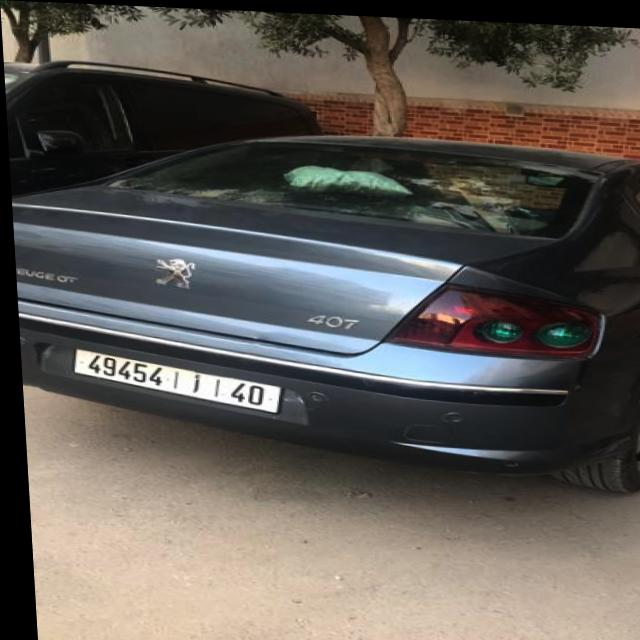License-Plate: (68, 348, 274, 411)
